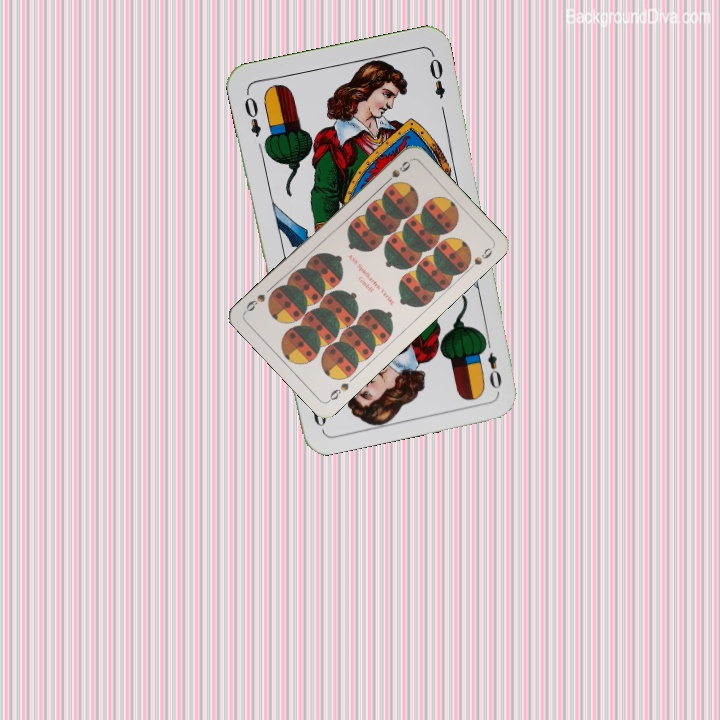EO: (478, 334, 505, 392), (240, 93, 264, 140)
S9: (380, 157, 413, 188), (324, 379, 352, 405)
